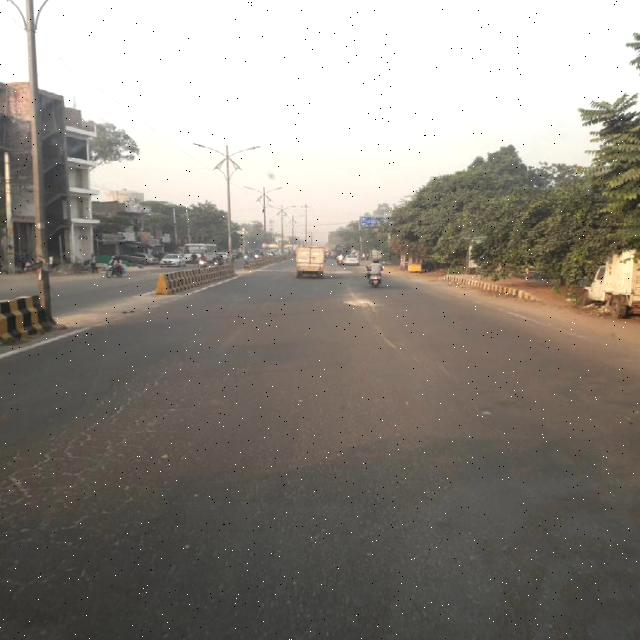D20: (11, 327, 244, 611)
D40: (335, 294, 396, 324)
